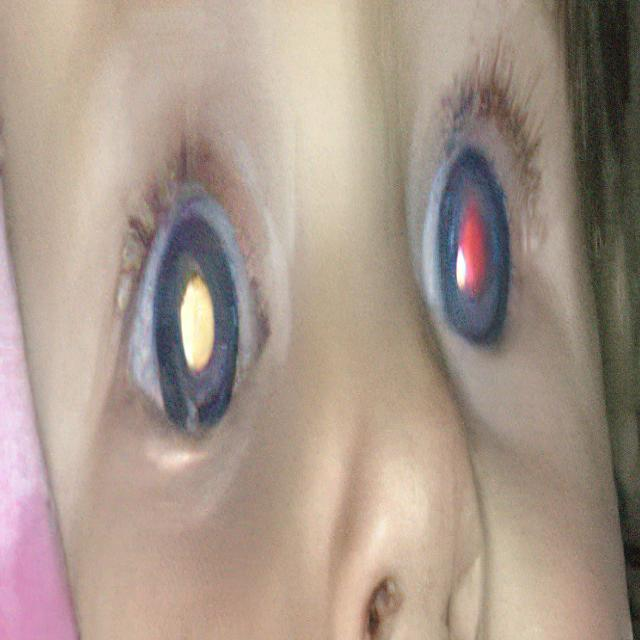reflexo-alterado: (124, 162, 265, 492)
reflexo-normal: (424, 58, 518, 404)
